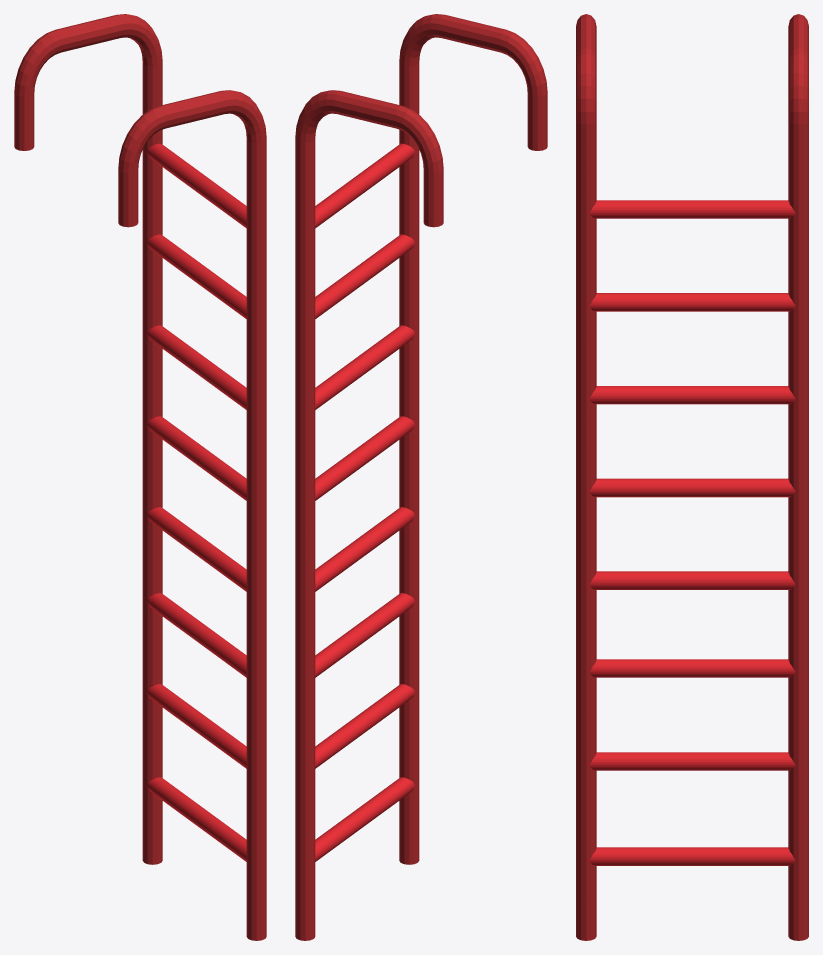
File: ladder.fbx
3 renders of one model, left to right at view 1: azimuth 30°, elevation 25°; view 2: azimuth 150°, elevation 25°; view 3: azimuth 270°, elevation 25°, orthographic. The views are drawn at different scales.
Visible parts, largest first — view 1: Cylinder.002; view 2: Cylinder.002; view 3: Cylinder.002.
Part boxes in pixels (x1,y1,x2,y2): Cylinder.002: (14,14,266,940); Cylinder.002: (295,14,547,940); Cylinder.002: (576,14,808,940).
Bounding box in the file's own units: 98.28 × 550 × 133.
